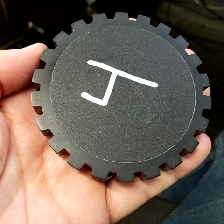gear: (29, 10, 212, 183)
